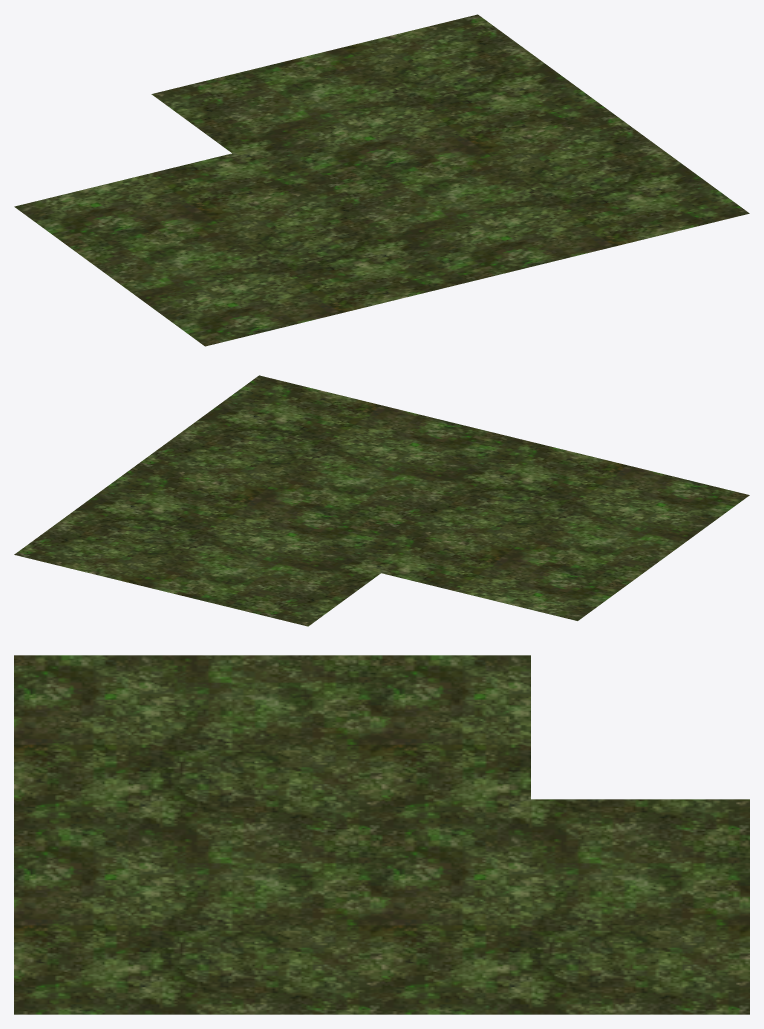
The model's file is OVERHILL_A_01_LINE179.fbx.
3 views of the same model, one above another, from view 1: azimuth 30°, elevation 25°; view 2: azimuth 150°, elevation 25°; view 3: azimuth 270°, elevation 25° (orthographic). The views are drawn at different scales.
Parts seen in each view (by area): view 1: OVERHILL_A_01_LINE179; view 2: OVERHILL_A_01_LINE179; view 3: OVERHILL_A_01_LINE179.
Part boxes in pixels (bbox=[...]): OVERHILL_A_01_LINE179: bbox=[14, 14, 749, 346]; OVERHILL_A_01_LINE179: bbox=[14, 375, 749, 626]; OVERHILL_A_01_LINE179: bbox=[14, 655, 749, 1014].
Size of the model in its own units: 57986 by 0.0122 by 50148.
1 material, 1 textured.
